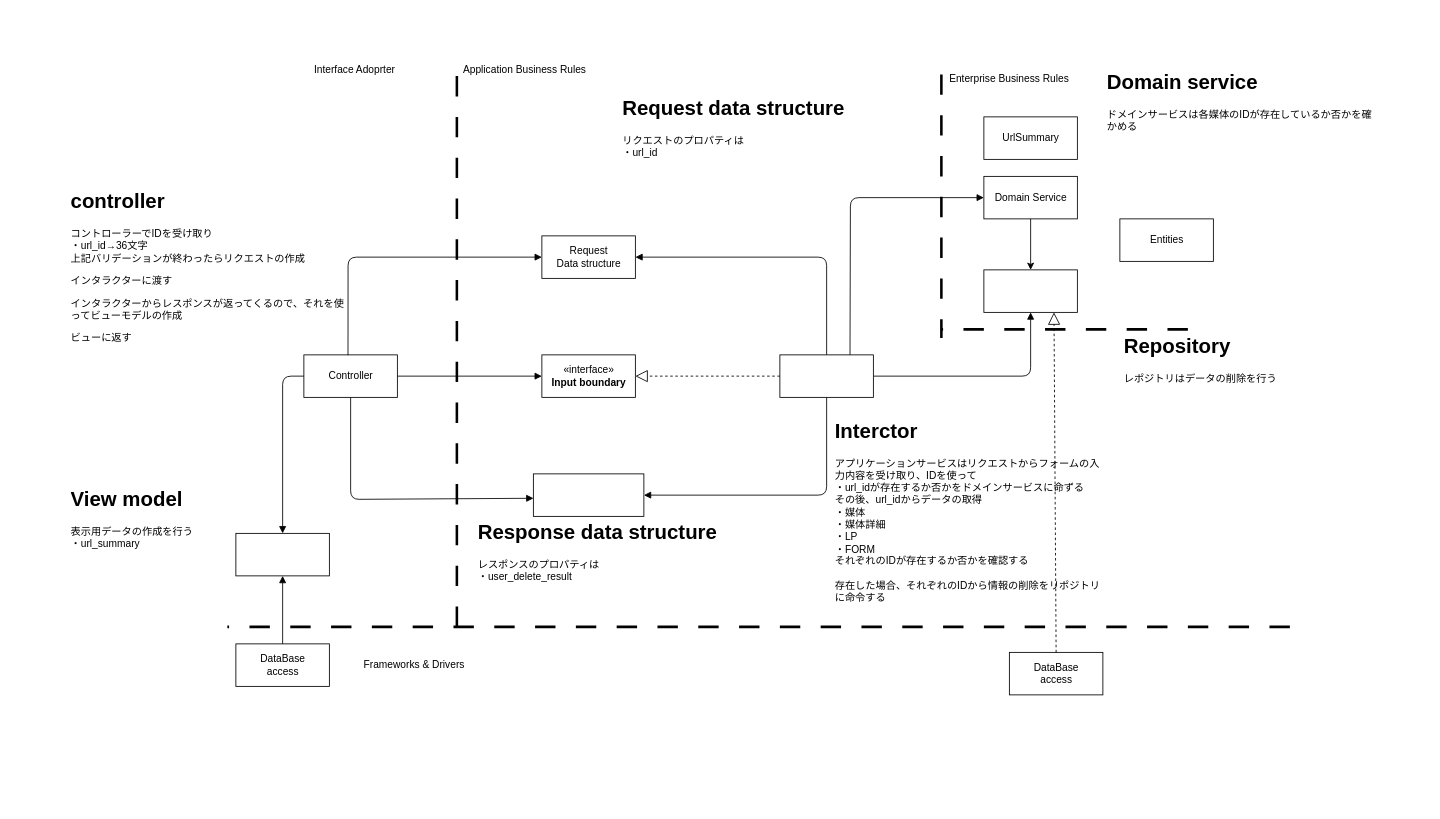
Image size: 1440x819. Some labels were removed from this diagram. The centre of each missing label's shape, as x and y in pixels:
"Response Data structure <UserCreateResult>" goes at point (588, 494).
"ViewModel Data structure" goes at point (282, 554).
"«interface» Edit UseCase" goes at point (826, 375).
"«interface» Repository" goes at point (1030, 290).
